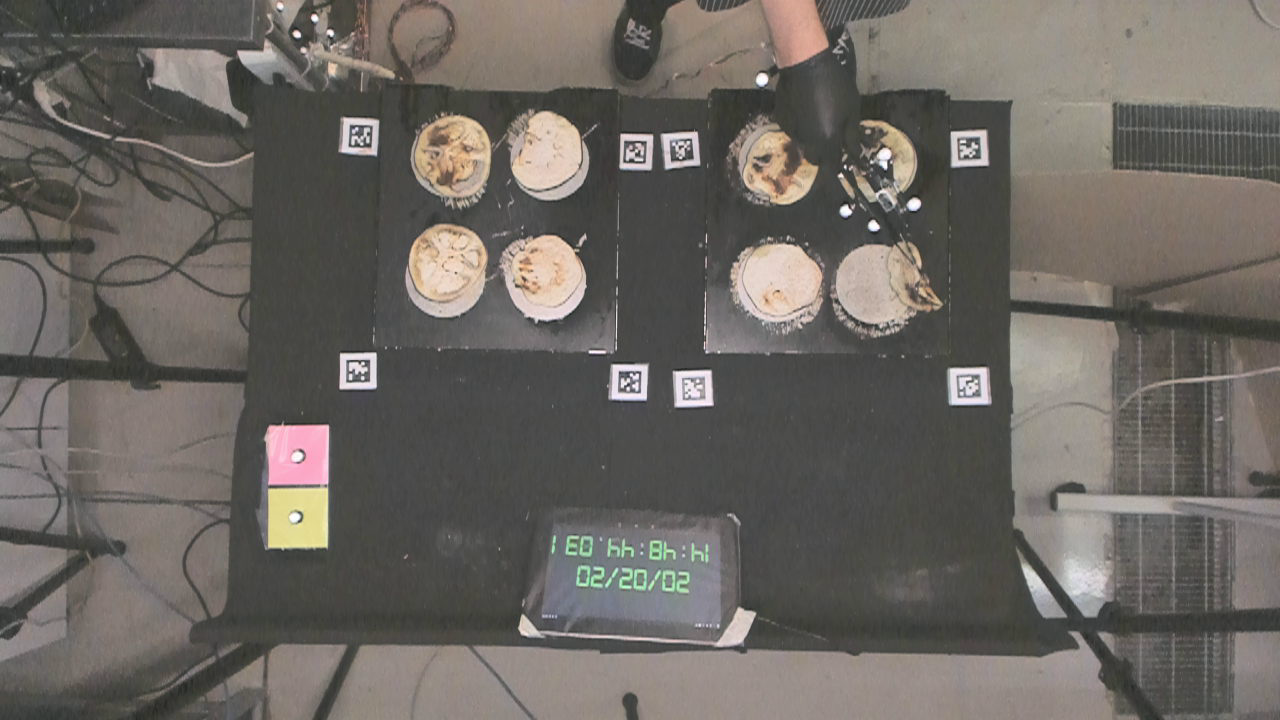eggplant: (405, 215, 486, 303), (415, 116, 494, 202), (744, 127, 821, 209), (744, 245, 820, 323), (506, 236, 588, 308), (517, 107, 585, 192), (888, 241, 946, 315)
marker: (265, 426, 329, 484)
